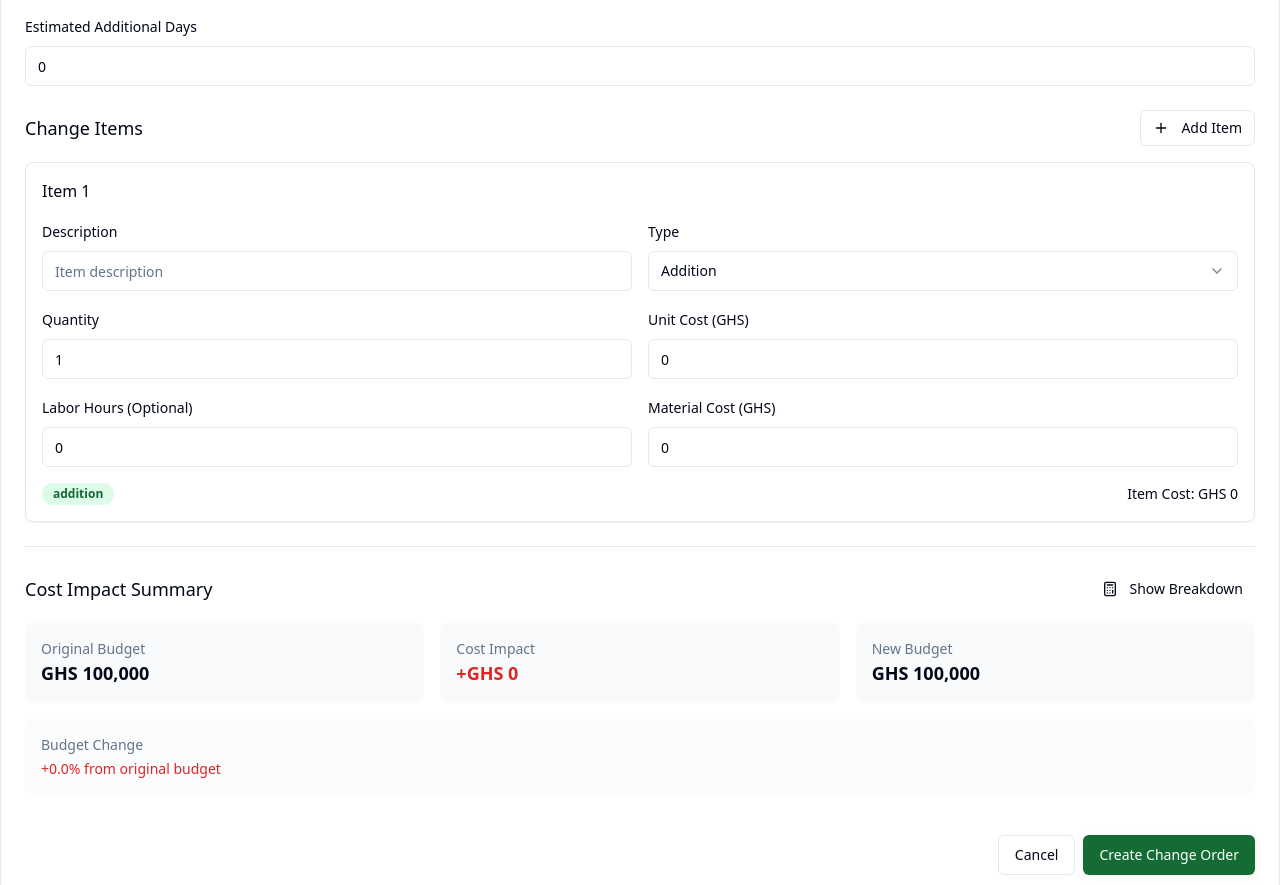
Scenario: ChangeOrderForm › validates required fields
(page scrolled)
Click the button "Create Change Order" at {"x": 1169, "y": 855}, box [1083,835,1255,875]
(page scrolled)
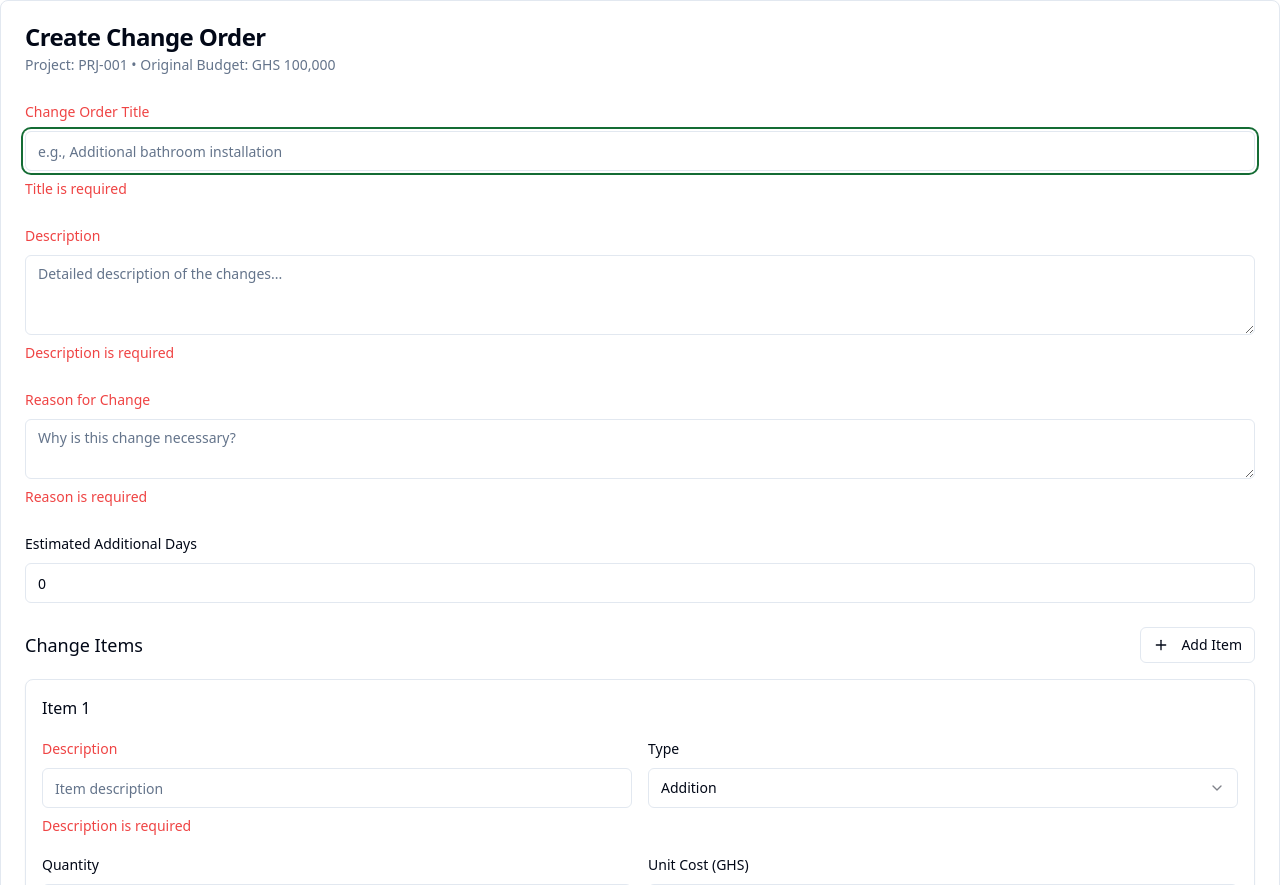
Check: the text "Title is required" is shown, box [25,179,127,198]
Check: the text "Description is required" is shown 2 times, box [25,343,174,362]; [42,816,191,835]
Check: the text "Reason is required" is shown, box [25,487,147,506]
